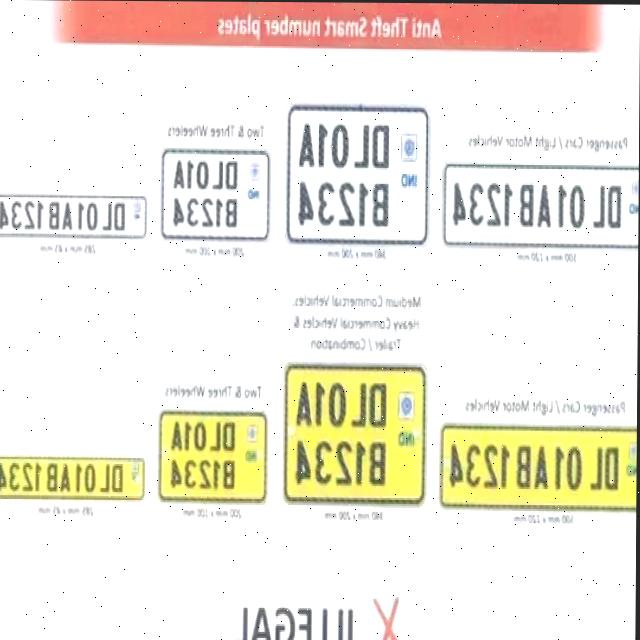plate: (278, 357, 432, 513), (287, 97, 434, 256), (437, 415, 638, 519), (438, 158, 639, 259), (153, 396, 269, 510), (153, 136, 276, 243), (0, 451, 149, 512), (0, 189, 147, 241)
